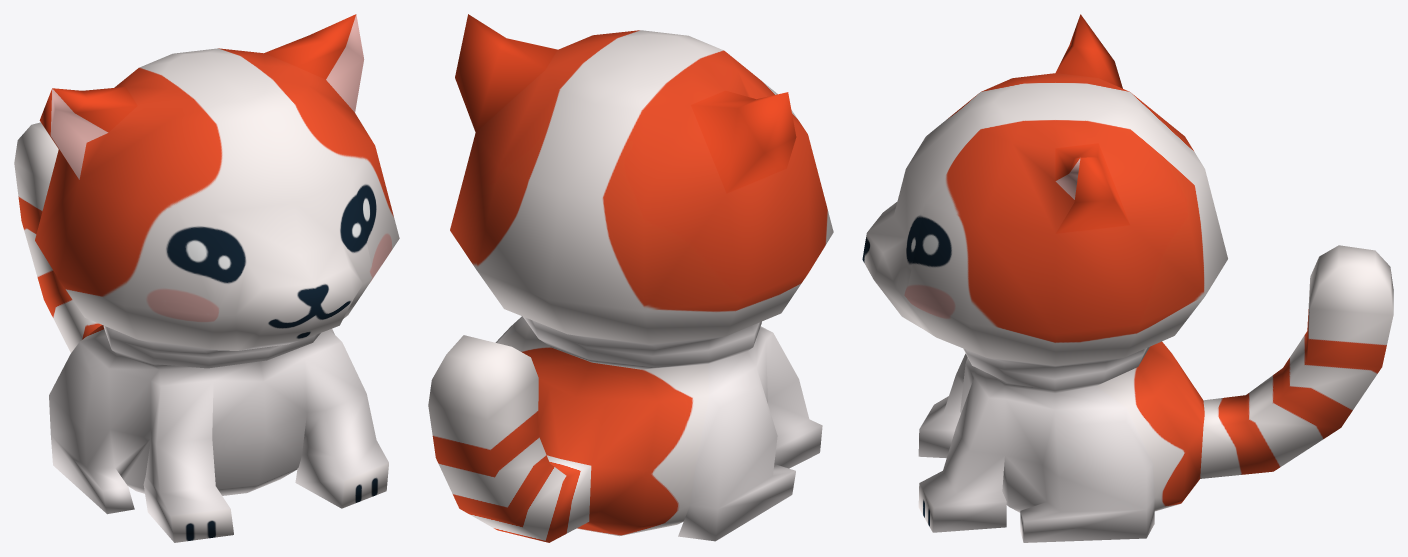
File: scene_qFMG67kIjx.glb
3 renders of one model, left to right at view 1: azimuth 30°, elevation 25°; view 2: azimuth 150°, elevation 25°; view 3: azimuth 270°, elevation 25°, orthographic. The views are drawn at different scales.
Visible parts, largest first — view 1: Object_0; view 2: Object_0; view 3: Object_0.
Boxes of the visible parts, box(x1,y1,x2,y2) form: Object_0: box(14, 14, 399, 542); Object_0: box(428, 14, 833, 542); Object_0: box(862, 14, 1393, 542).
Bounding box in the file's own units: 1.88 × 2.32 × 2.81.
1 material, 1 textured.
